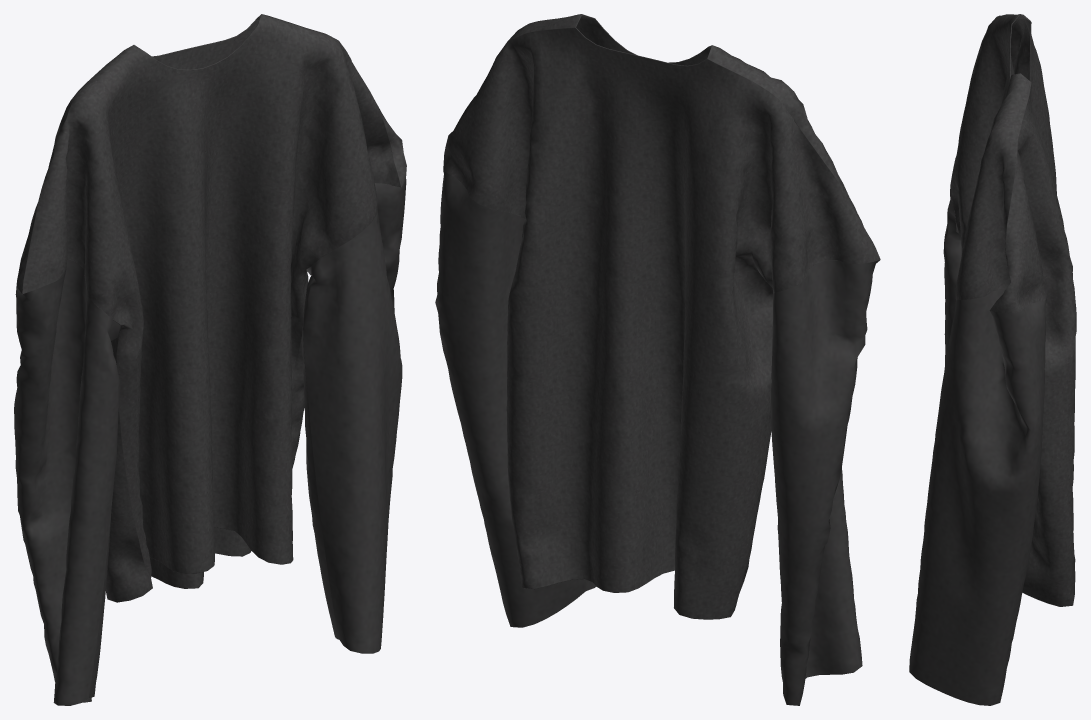
The model's file is FLG_11_01_4.fbx.
3 renders of one model, left to right at view 1: azimuth 30°, elevation 25°; view 2: azimuth 150°, elevation 25°; view 3: azimuth 270°, elevation 25°, orthographic. The views are drawn at different scales.
Parts seen in each view (by area): view 1: FLG_11_01_4; view 2: FLG_11_01_4; view 3: FLG_11_01_4.
Boxes of the visible parts, left/top/right/bottom form: FLG_11_01_4: left=14, top=14, right=406, bottom=705; FLG_11_01_4: left=435, top=14, right=880, bottom=705; FLG_11_01_4: left=909, top=14, right=1076, bottom=705.
Bounding box in the file's own units: 66.71 × 99.57 × 25.38.
